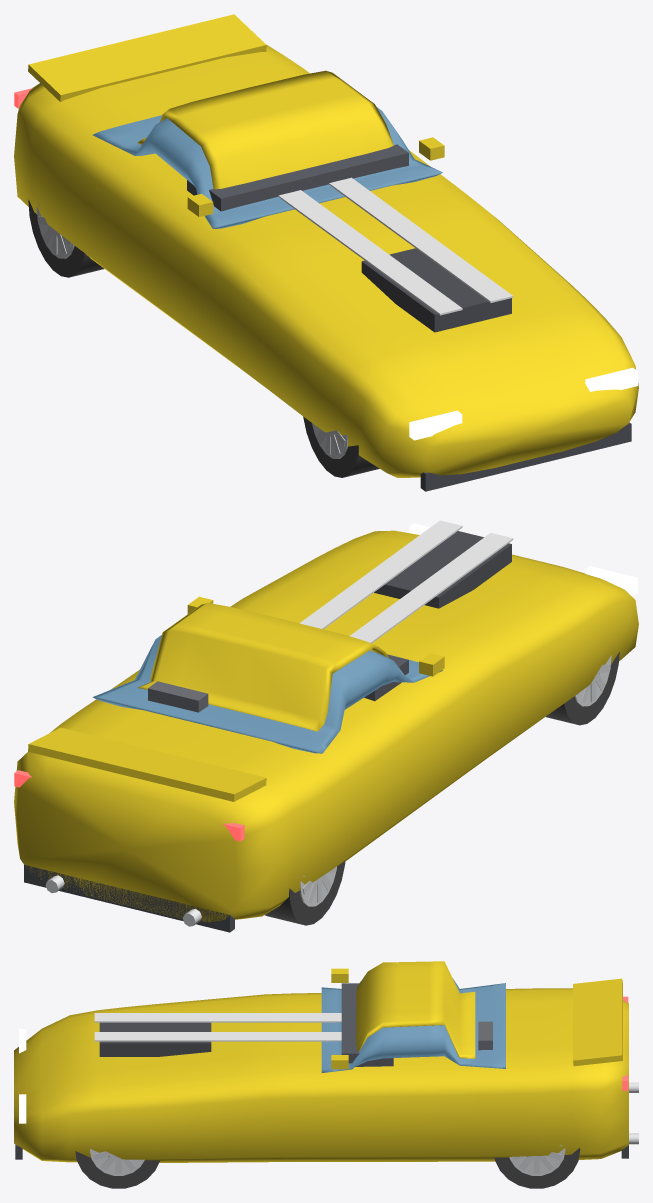
File: bruiser.glb
The picture shows the model from 3 angles, top to bottom: view 1: azimuth 30°, elevation 25°; view 2: azimuth 150°, elevation 25°; view 3: azimuth 270°, elevation 25°; orthographic projection. The views are drawn at different scales.
Visible parts, largest first — view 1: Body, Car_bruiser, Roof, Stripe (×2), Glass, Interior, Wheel_RR, Wheel_FR; view 2: Body, Roof, Car_bruiser, Glass, Stripe (×2), Wheel_RR, Wheel_FR, Interior; view 3: Body, Car_bruiser, Roof, Glass, Stripe (×2), Wheel_RL, Wheel_FL, Interior.
Boxes of the visible parts, bbox=[...] form: Body: bbox=[14, 45, 638, 477]; Car_bruiser: bbox=[14, 14, 637, 491]; Roof: bbox=[138, 70, 393, 189]; Stripe (×2): bbox=[278, 177, 513, 315]; Glass: bbox=[92, 107, 442, 228]; Interior: bbox=[187, 144, 408, 211]; Wheel_RR: bbox=[28, 199, 104, 277]; Wheel_FR: bbox=[303, 416, 379, 477]; Body: bbox=[14, 530, 638, 922]; Roof: bbox=[137, 603, 388, 731]; Car_bruiser: bbox=[14, 523, 637, 932]; Glass: bbox=[92, 635, 442, 753]; Stripe (×2): bbox=[299, 520, 513, 643]; Wheel_RR: bbox=[265, 861, 345, 925]; Wheel_FR: bbox=[545, 652, 619, 725]; Interior: bbox=[148, 654, 408, 712]; Body: bbox=[14, 988, 628, 1162]; Car_bruiser: bbox=[15, 968, 638, 1159]; Roof: bbox=[356, 961, 475, 1058]; Glass: bbox=[321, 979, 505, 1072]; Stripe (×2): bbox=[94, 1013, 341, 1041]; Wheel_RL: bbox=[494, 1145, 580, 1188]; Wheel_FL: bbox=[75, 1149, 160, 1188]; Interior: bbox=[341, 983, 492, 1066].
Bounding box in the file's own units: 1.95 × 1.34 × 5.03.
